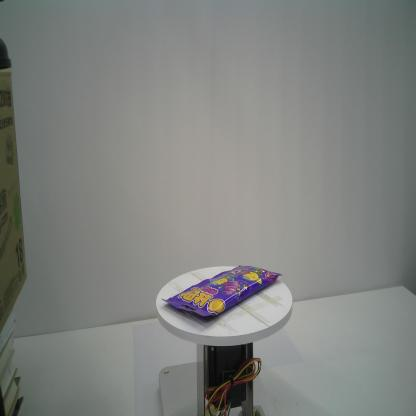Candy: (161, 265, 284, 317)
